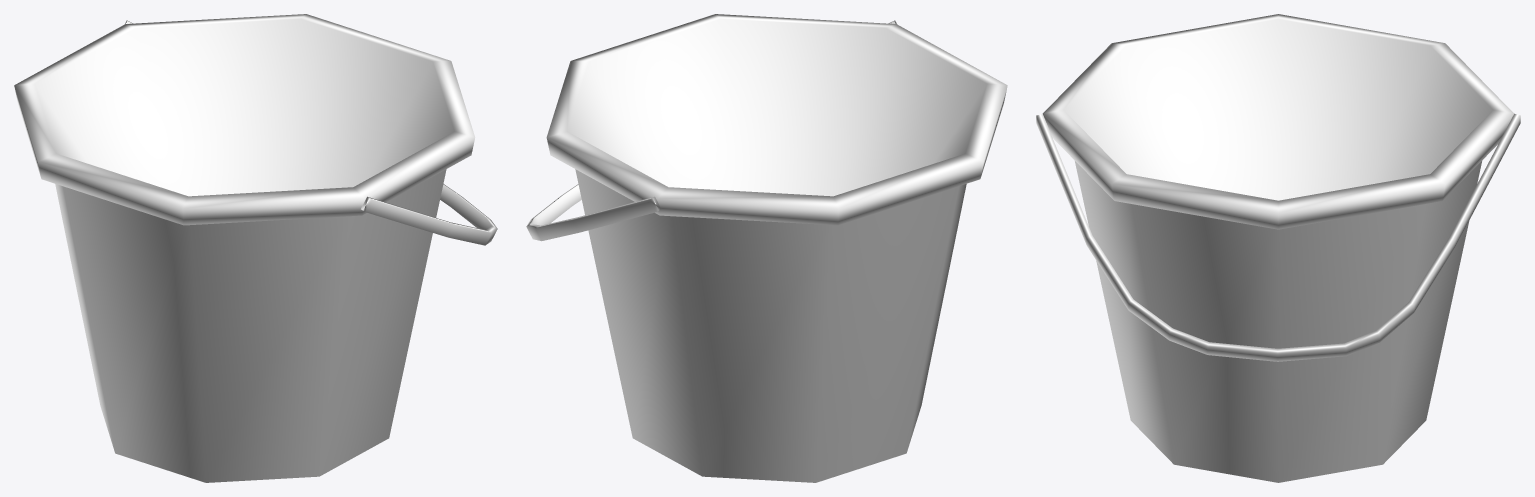
File: Pale.fbx
The picture shows the model from 3 angles, left to right: view 1: azimuth 30°, elevation 25°; view 2: azimuth 150°, elevation 25°; view 3: azimuth 270°, elevation 25°; orthographic projection.
Visible parts, largest first — view 1: Pale; view 2: Pale; view 3: Pale.
Part boxes in pixels (x1,y1,x2,y2): Pale: (14, 14, 497, 482); Pale: (526, 14, 1007, 482); Pale: (1036, 14, 1520, 482).
Bounding box in the file's own units: 31.64 × 22.44 × 31.72.
